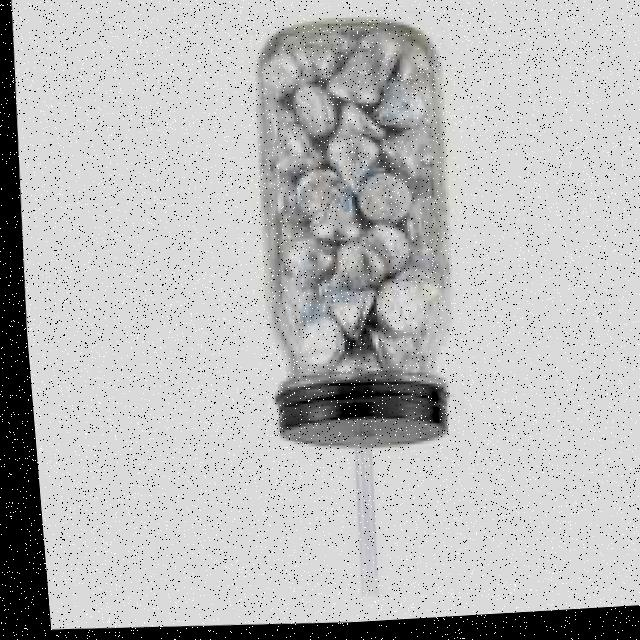kisses: (321, 45, 394, 118), (362, 279, 439, 346), (344, 174, 414, 232), (311, 271, 367, 342), (313, 135, 373, 189)
